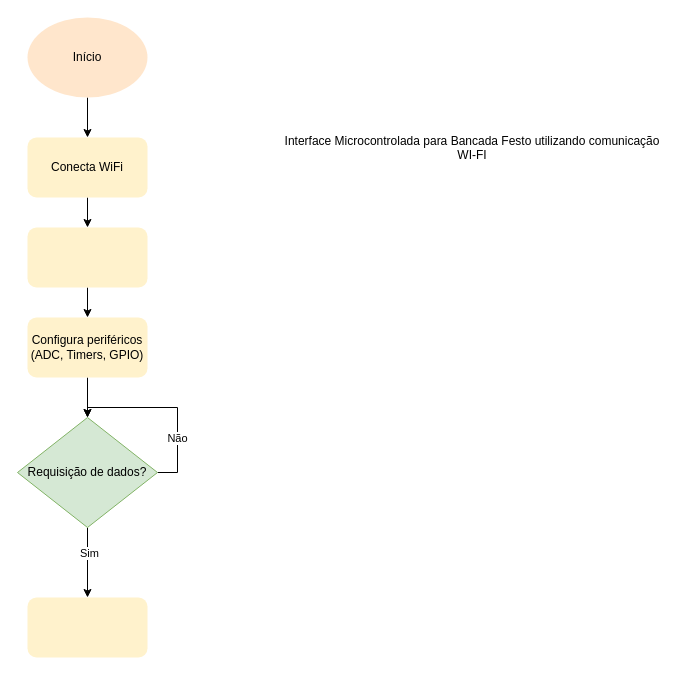
The diagram is 685 pixels wide and 674 high, and some of its shapes have lost their labels. The shapes that lost their labels are listed below. From the top down, each one's centre as x and y in pixels, then its label:
At point 87,257: "Inicia Servidor WEB".
At point 87,627: "Retorna dado".
